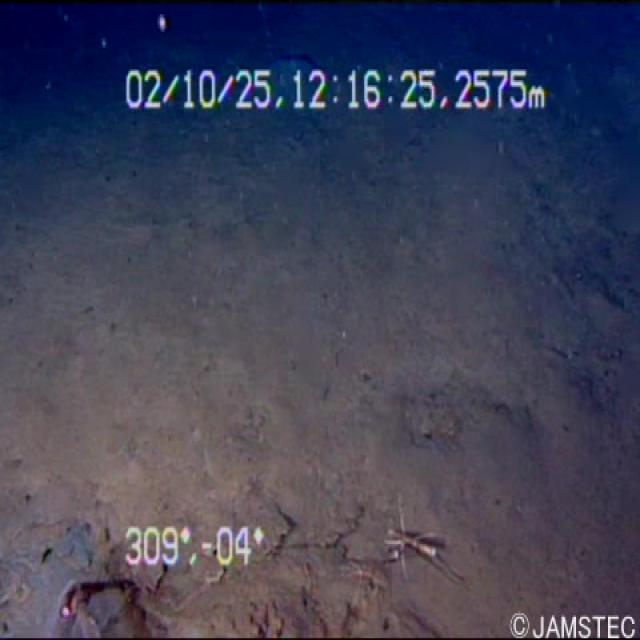plastic: (38, 571, 146, 638)
